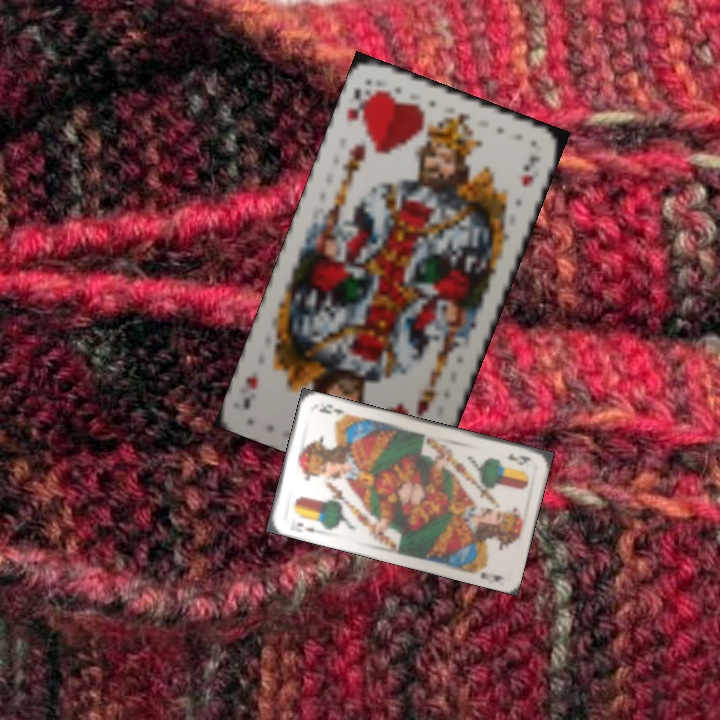EK: (501, 449, 534, 468), (293, 518, 323, 537)
HK: (342, 85, 378, 128)
